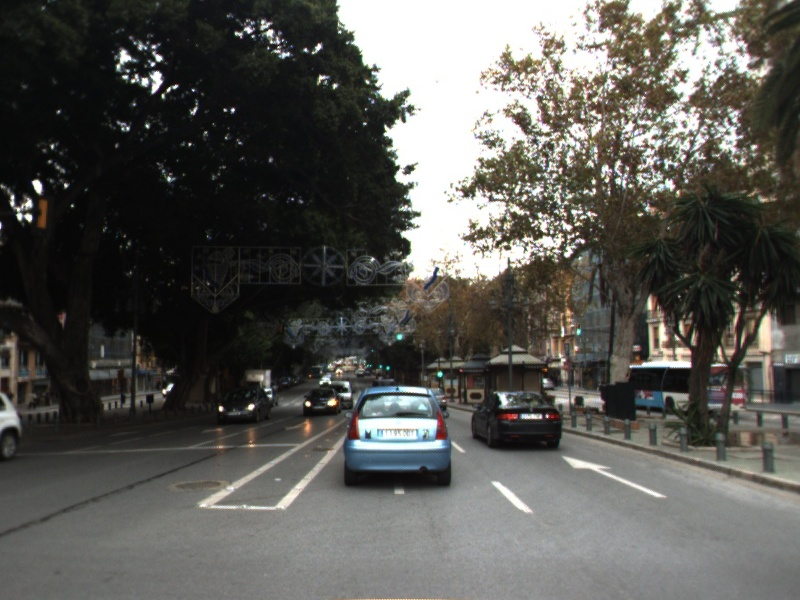STRAIGHT: (560, 454, 669, 500)
